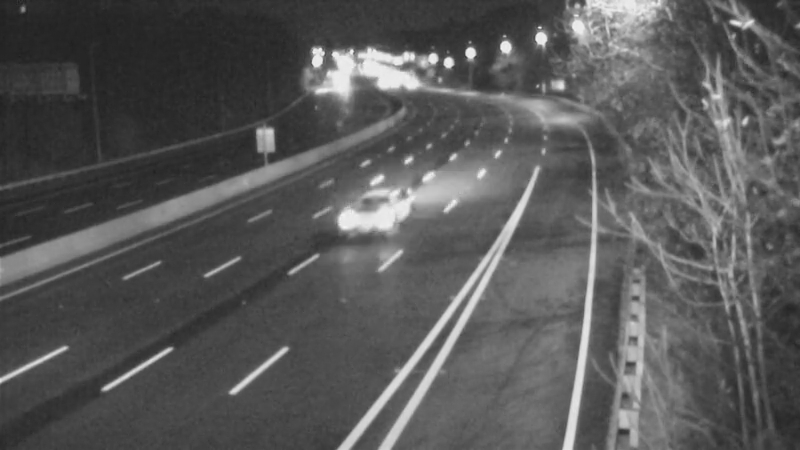vehicle: (319, 171, 399, 251)
